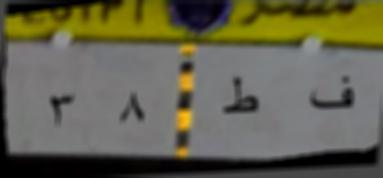3: (42, 89, 80, 130)
8: (114, 87, 158, 134)
Taa: (215, 71, 264, 124)
faa: (308, 70, 363, 120)
